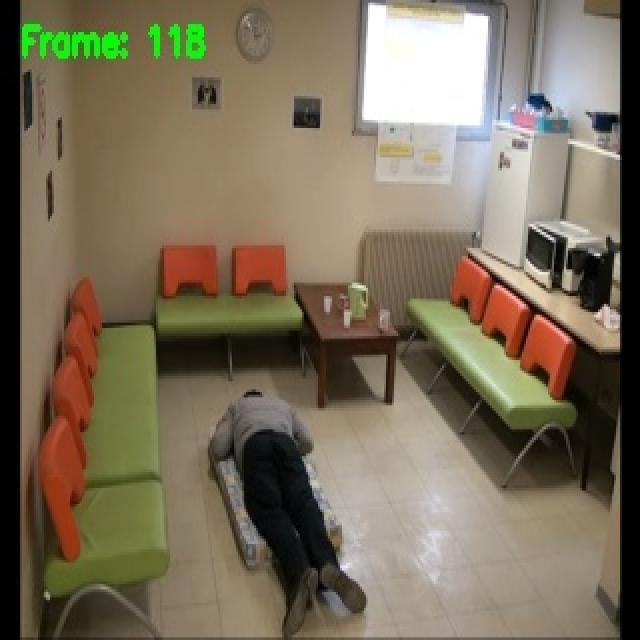fall: (223, 392, 359, 632)
